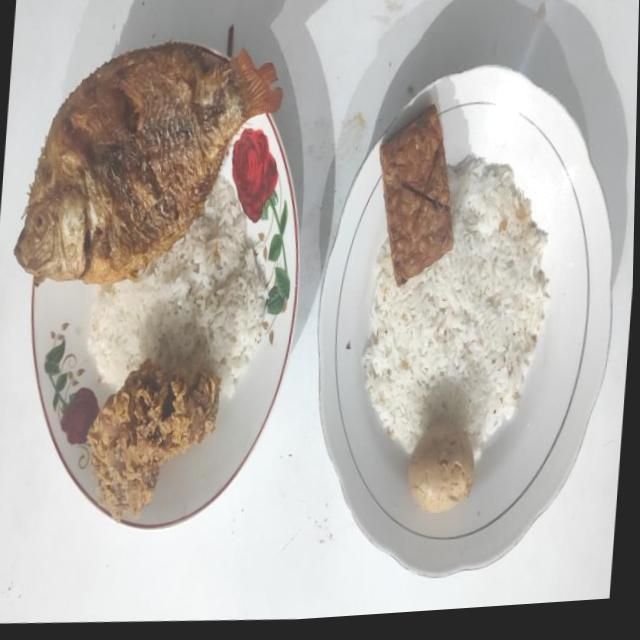ikan_mujair: (14, 42, 282, 284)
nasi_putih: (363, 157, 549, 456), (88, 176, 270, 398)
tempe_goreng: (379, 105, 454, 286)
